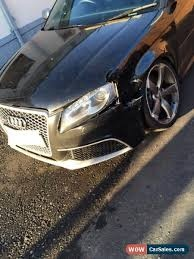Scratch: (123, 96, 144, 111), (79, 126, 88, 136)
Smashed: (6, 84, 101, 123)
